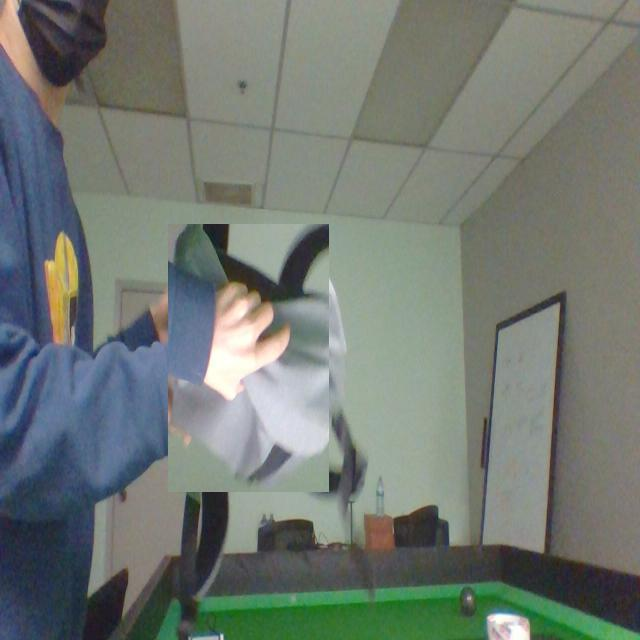Backpacks: (166, 224, 328, 493)
